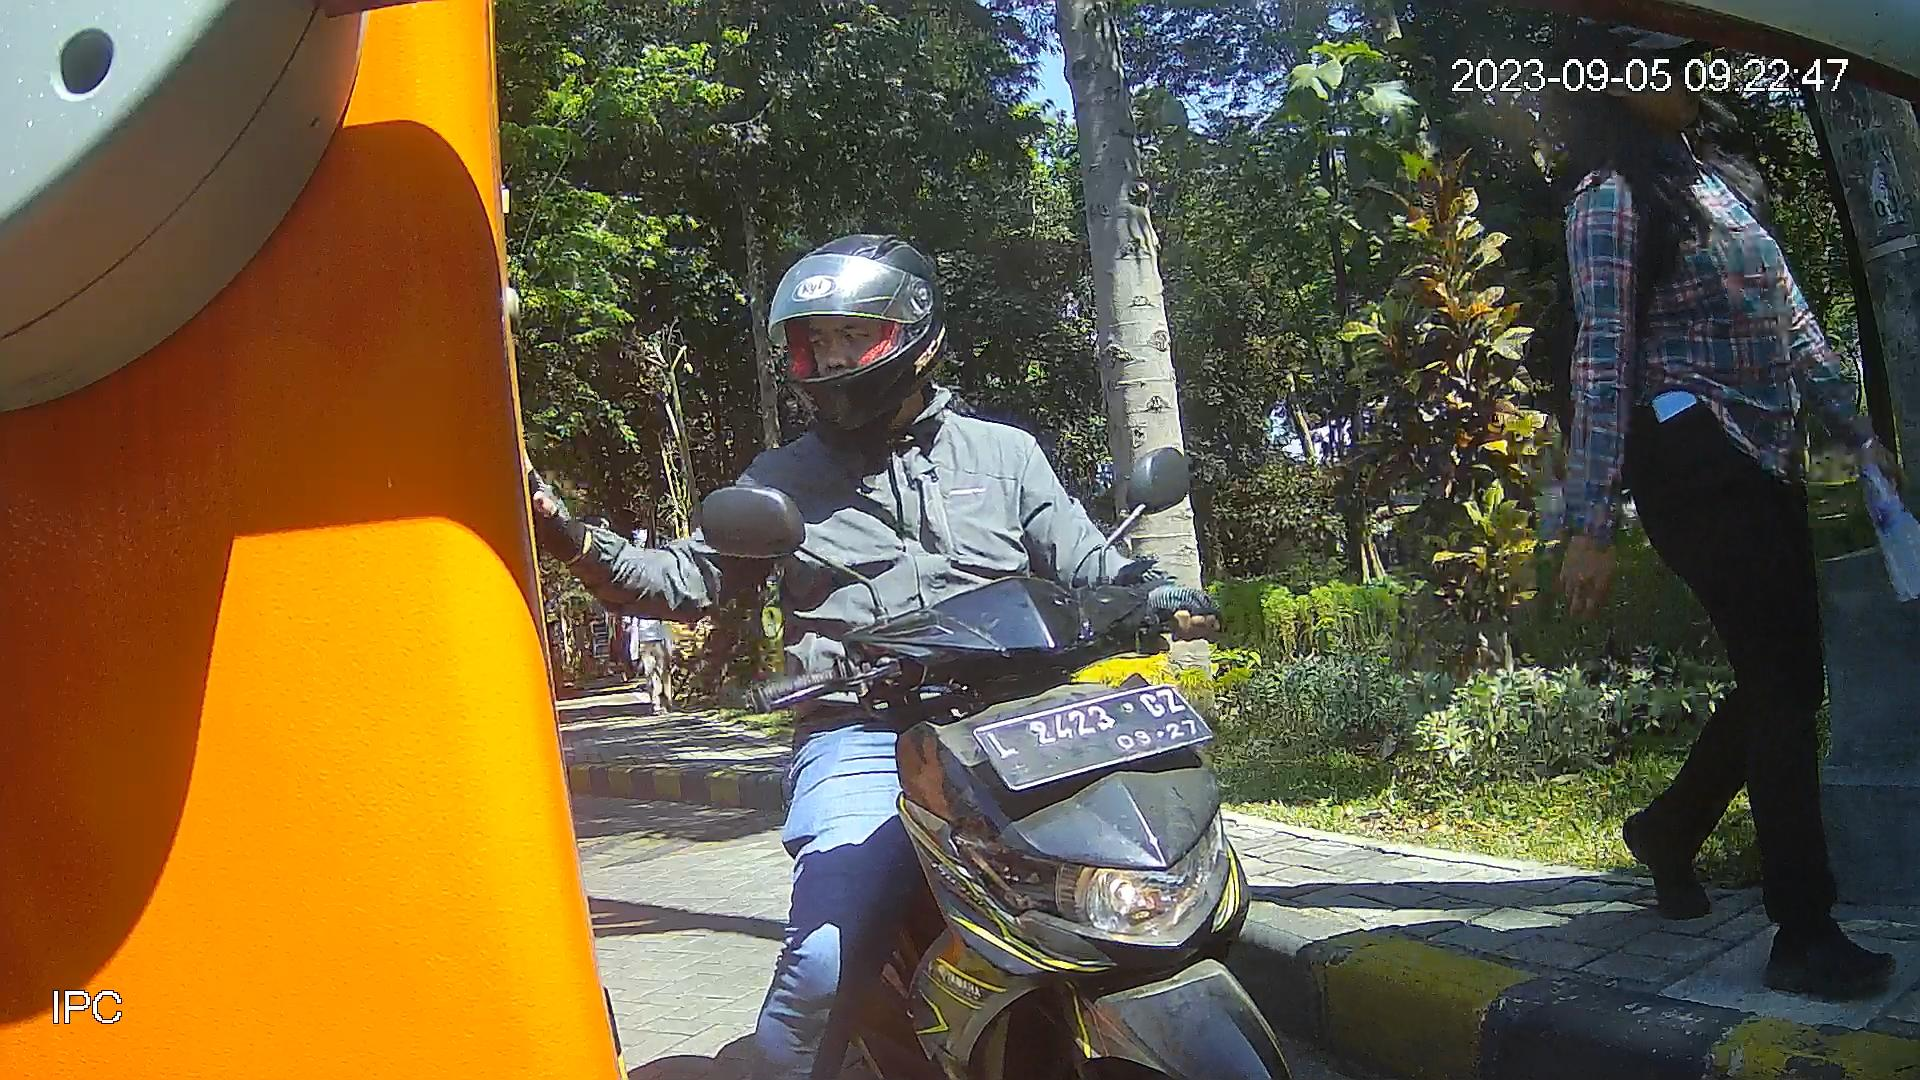plat: (968, 680, 1218, 795)
